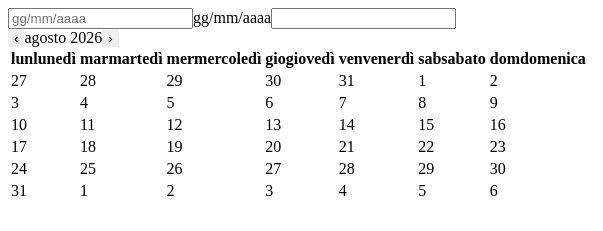
Test: Calendar inside a Popover, setting a DateInput › never yanks the focus out of the field when the month follows
Click the cell "12" at (175,124), box [166,115,262,135]
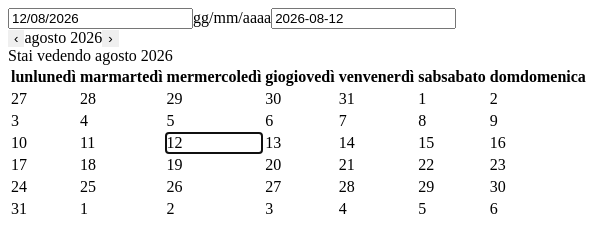
Replace the text in the field named "Partenza" with "20122027" at (100,18), box [8,8,193,29]
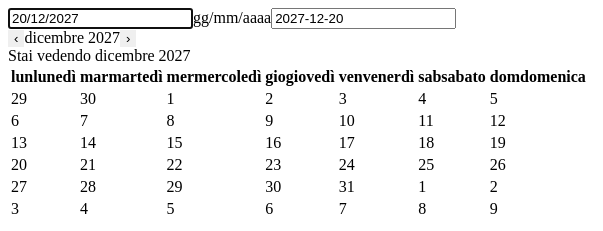
Check: the field named "Partenza" holds "20/12/2027", box [8,8,193,29]
